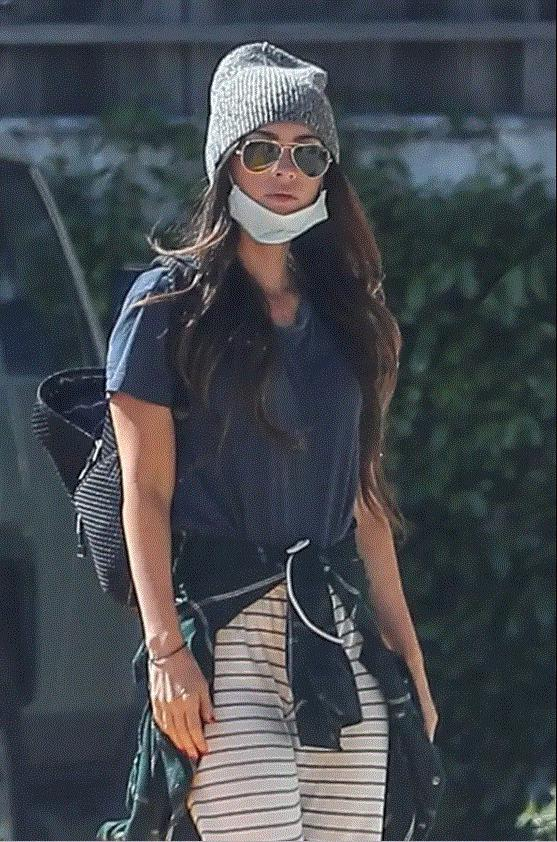mask_weared_incorrect: (230, 139, 330, 230)
